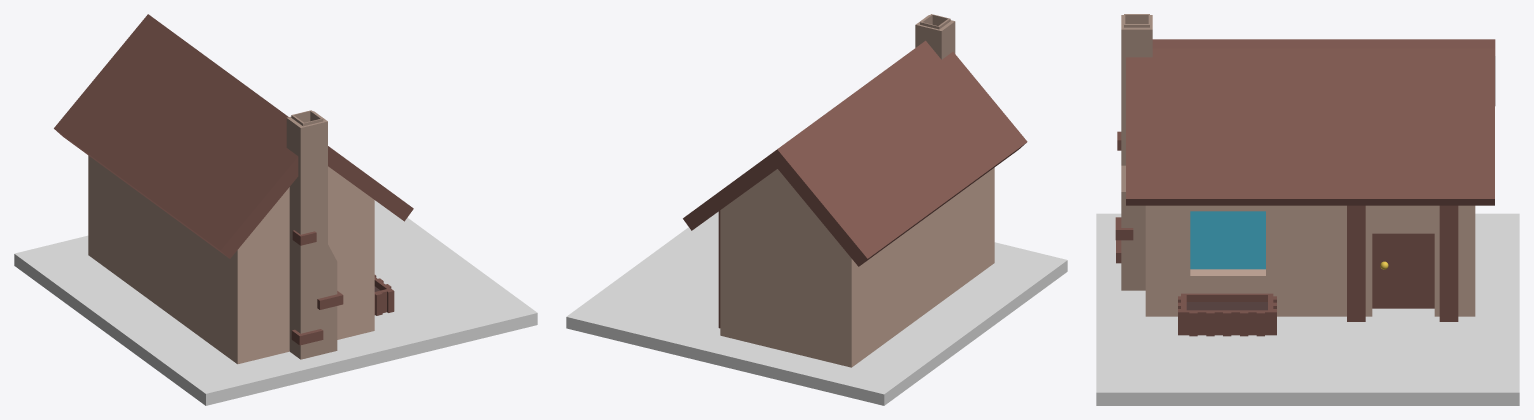
The model's file is asset.glb.
3 views of the same model, side by side, from view 1: azimuth 30°, elevation 25°; view 2: azimuth 150°, elevation 25°; view 3: azimuth 270°, elevation 25° (orthographic). The views are drawn at different scales.
Parts seen in each view (by area): view 1: Cubo.002, Cube, Cubo, Cubo.003, Cubo.005; view 2: Cubo, Cubo.002, Cube, Cubo.003; view 3: Cubo.002, Cube, Cubo, Cubo.005, Cubo.003, Cubo.004, Cubo.001.
Part boxes in pixels (x1=…): Cubo.002: x1=54, y1=14, x2=413, y2=258; Cube: x1=14, y1=200, x2=537, y2=405; Cubo: x1=88, y1=155, x2=374, y2=364; Cubo.003: x1=286, y1=110, x2=337, y2=359; Cubo.005: x1=374, y1=275, x2=394, y2=315; Cubo: x1=720, y1=167, x2=994, y2=367; Cubo.002: x1=683, y1=40, x2=1027, y2=266; Cube: x1=566, y1=211, x2=1067, y2=405; Cubo.003: x1=915, y1=14, x2=955, y2=59; Cubo.002: x1=1126, y1=39, x2=1495, y2=205; Cube: x1=1096, y1=213, x2=1519, y2=405; Cubo: x1=1145, y1=205, x2=1475, y2=316; Cubo.005: x1=1178, y1=293, x2=1276, y2=336; Cubo.003: x1=1121, y1=14, x2=1152, y2=290; Cubo.004: x1=1439, y1=205, x2=1458, y2=321; Cubo.001: x1=1347, y1=205, x2=1365, y2=321.
Bounding box in the file's own units: 6.17 × 4.49 × 6.17.
